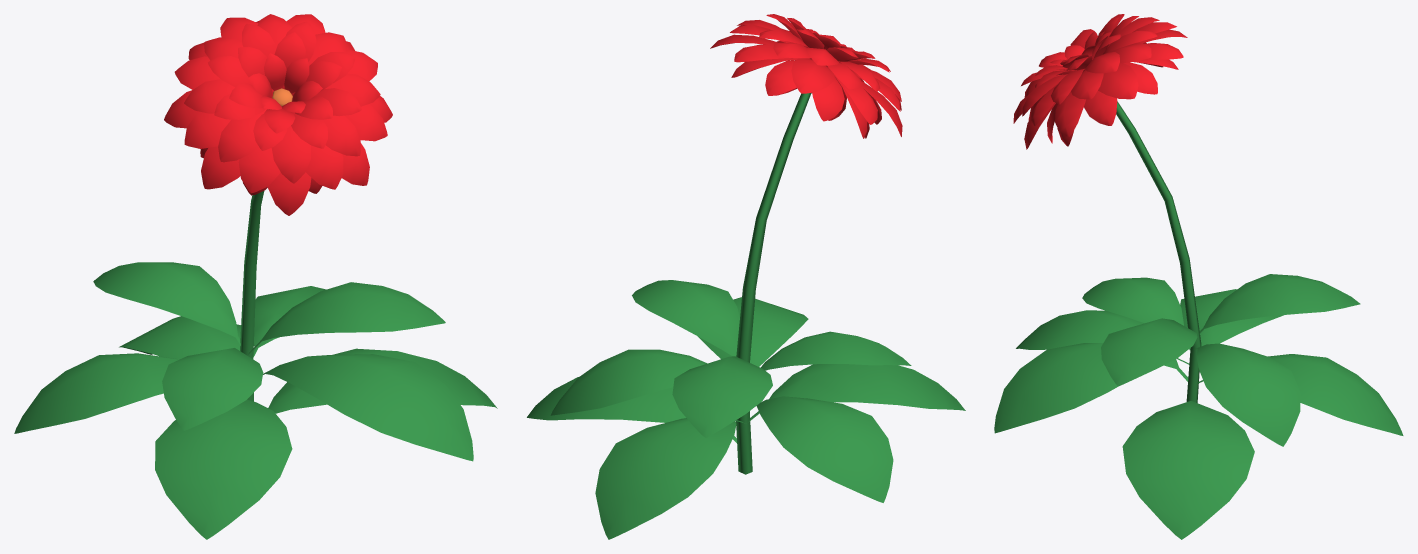
Rendered from flowera.glb.
3 renders of one model, left to right at view 1: azimuth 30°, elevation 25°; view 2: azimuth 150°, elevation 25°; view 3: azimuth 270°, elevation 25°, orthographic. The views are drawn at different scales.
Parts seen in each view (by area): view 1: Flower_A_27, Flower_A_16, Flower_A_20, Flower_A_22, Flower_A_23, Flower_A_24, Flower_A_21, Flower_A_18, Flower_A_17, Flower_A_25, Flower_A_19; view 2: Flower_A_27, Flower_A_18, Flower_A_22, Flower_A_16, Flower_A_24, Flower_A_19, Flower_A_23, Flower_A_25, Flower_A_21, Flower_A_17, Flower_A_20; view 3: Flower_A_17, Flower_A_27, Flower_A_19, Flower_A_20, Flower_A_18, Flower_A_24, Flower_A_23, Flower_A_21, Flower_A_25, Flower_A_16, Flower_A_22.
Boxes of the visible parts, x1=… form: Flower_A_27: x1=164, y1=14, x2=392, y2=215; Flower_A_16: x1=155, y1=399, x2=292, y2=539; Flower_A_20: x1=263, y1=354, x2=473, y2=461; Flower_A_22: x1=14, y1=353, x2=178, y2=433; Flower_A_23: x1=248, y1=282, x2=445, y2=354; Flower_A_24: x1=93, y1=262, x2=240, y2=345; Flower_A_21: x1=162, y1=348, x2=263, y2=430; Flower_A_18: x1=119, y1=316, x2=240, y2=359; Flower_A_17: x1=268, y1=348, x2=497, y2=413; Flower_A_25: x1=240, y1=191, x2=264, y2=401; Flower_A_19: x1=253, y1=286, x2=326, y2=357; Flower_A_27: x1=710, y1=14, x2=902, y2=138; Flower_A_18: x1=595, y1=418, x2=744, y2=539; Flower_A_22: x1=756, y1=396, x2=893, y2=502; Flower_A_16: x1=748, y1=364, x2=965, y2=422; Flower_A_24: x1=672, y1=356, x2=772, y2=437; Flower_A_19: x1=550, y1=349, x2=707, y2=415; Flower_A_23: x1=632, y1=280, x2=739, y2=356; Flower_A_25: x1=736, y1=93, x2=811, y2=474; Flower_A_21: x1=760, y1=331, x2=911, y2=370; Flower_A_17: x1=527, y1=377, x2=736, y2=442; Flower_A_20: x1=698, y1=297, x2=808, y2=366; Flower_A_17: x1=1122, y1=401, x2=1254, y2=539; Flower_A_27: x1=1013, y1=14, x2=1187, y2=149; Flower_A_19: x1=1194, y1=343, x2=1300, y2=446; Flower_A_20: x1=994, y1=343, x2=1189, y2=433; Flower_A_18: x1=1198, y1=354, x2=1403, y2=435; Flower_A_24: x1=1199, y1=274, x2=1360, y2=334; Flower_A_23: x1=1101, y1=318, x2=1197, y2=386; Flower_A_21: x1=1082, y1=277, x2=1190, y2=349; Flower_A_25: x1=1116, y1=101, x2=1201, y2=402; Flower_A_16: x1=1016, y1=310, x2=1188, y2=381; Flower_A_22: x1=1180, y1=289, x2=1283, y2=346.
Bounding box in the file's own units: 1.03 × 1.06 × 0.9623.
1 material, 1 textured.
